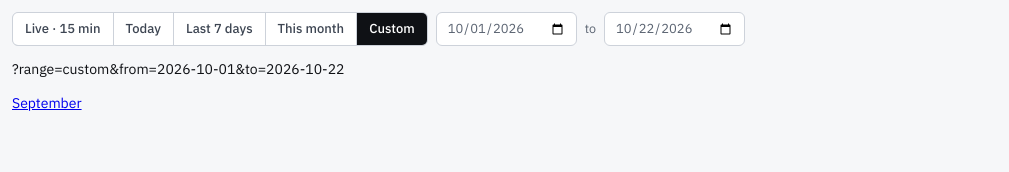
a date that makes no range waits with a message and leaves the address alone
The width and height of the screenshot is (1009, 172).
Type "2026-10-30" into the date field named "First day". click: {"x": 506, "y": 29}
box: left=436, top=12, right=577, bottom=46
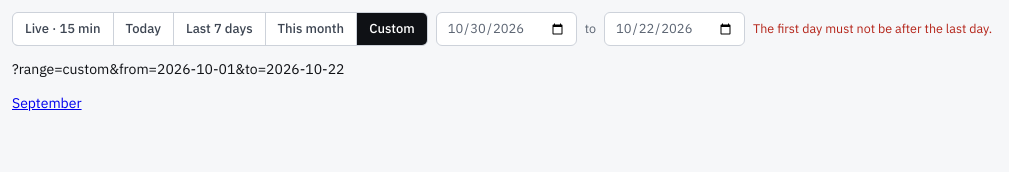
Check: the message reads "The first day must not be after the last day.", box left=753, top=20, right=992, bottom=36
